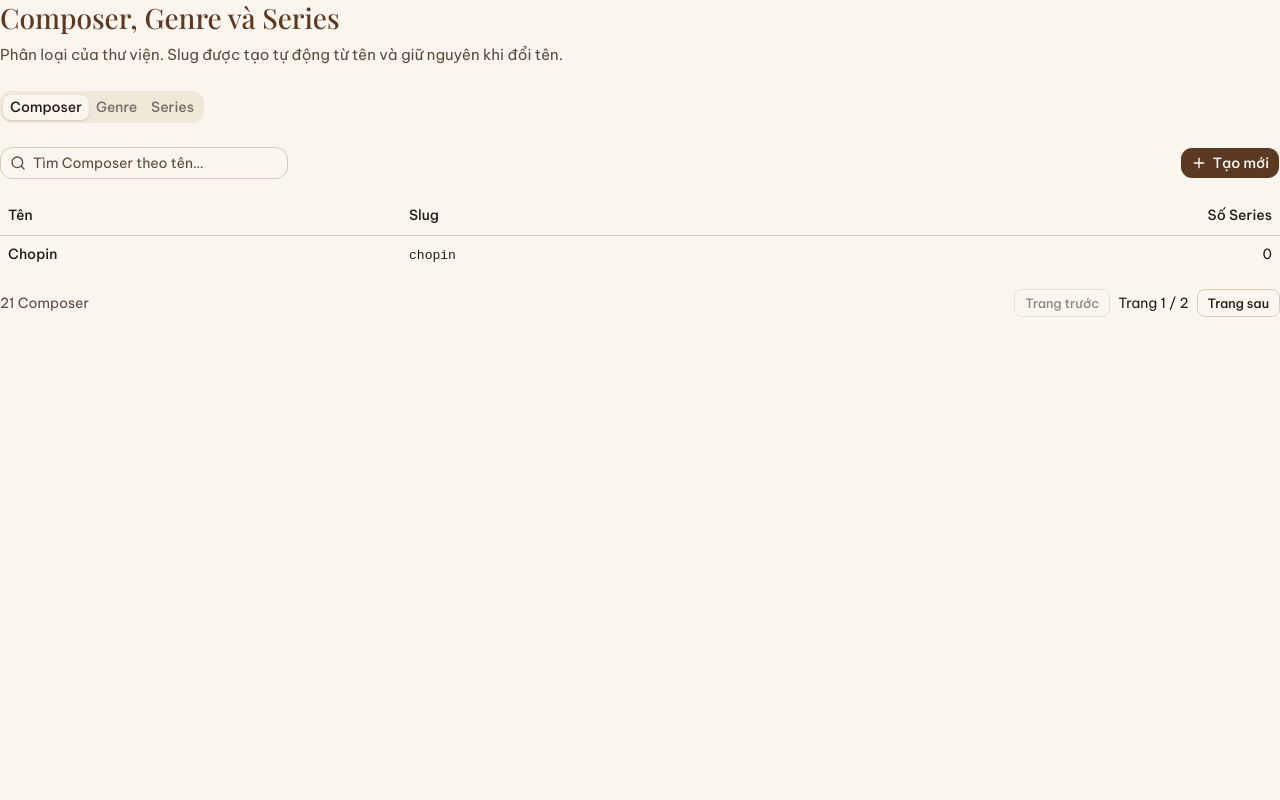
Test: Composer — xoá thành công, lùi trang, lỗi server › xoá 204 -> đóng dialog, tải lại; trang trống với page>1 -> GET trang thấp hơn
The width and height of the screenshot is (1280, 800).
Check: the text "Trang 1 / 2" is shown, box [1118,293,1188,313]
Click the button "Trang sau" at (1238, 303), box [1196,289,1279,317]
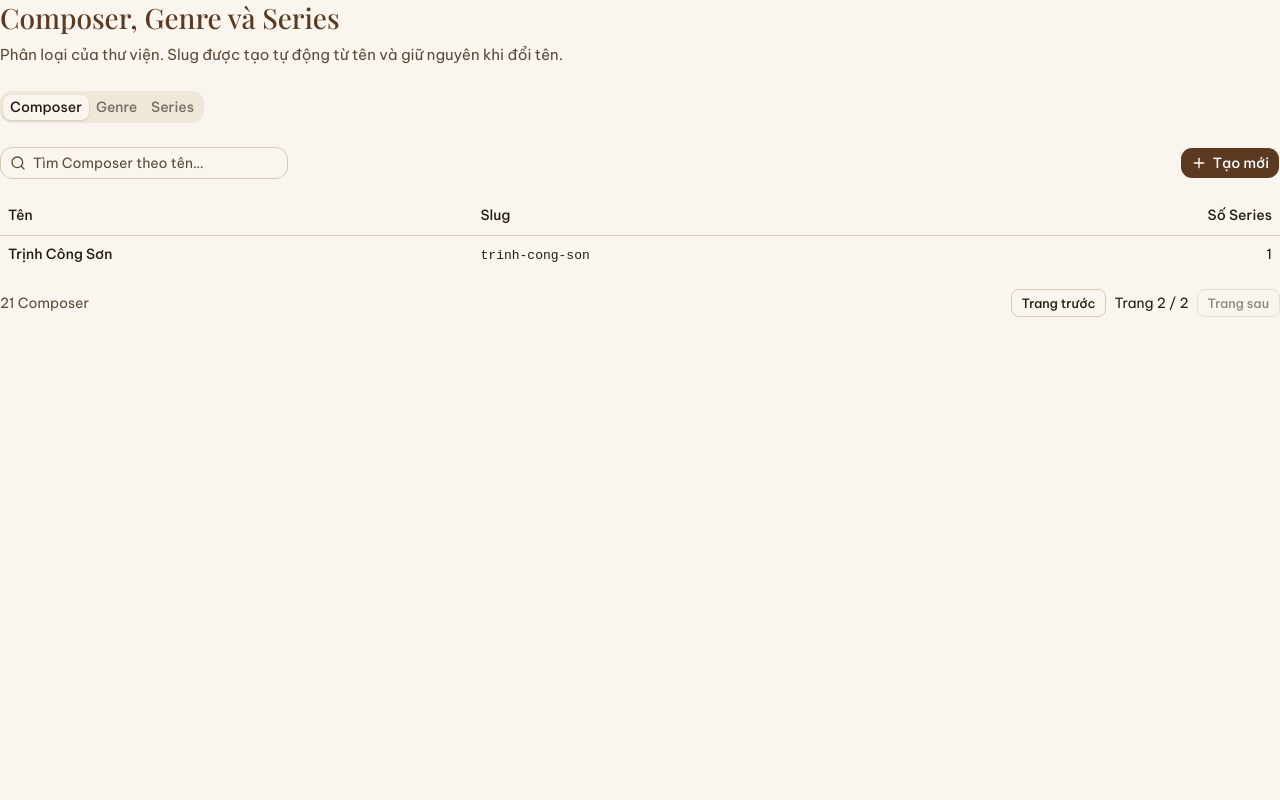
Click the row named "Sửa Composer Trịnh Công Sơn" at (60, 254), box [0,235,1279,273]
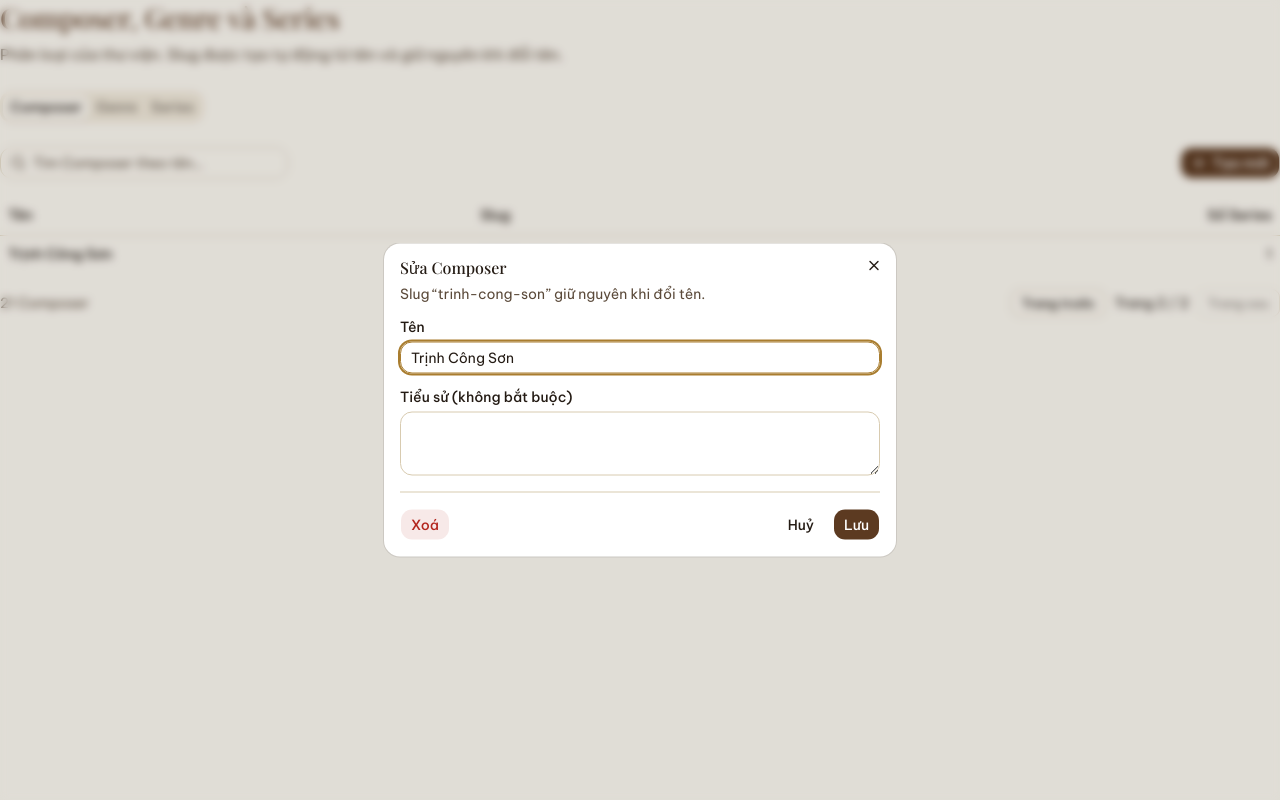
Click the button "Xoá" at (425, 524), box [400,508,450,540]
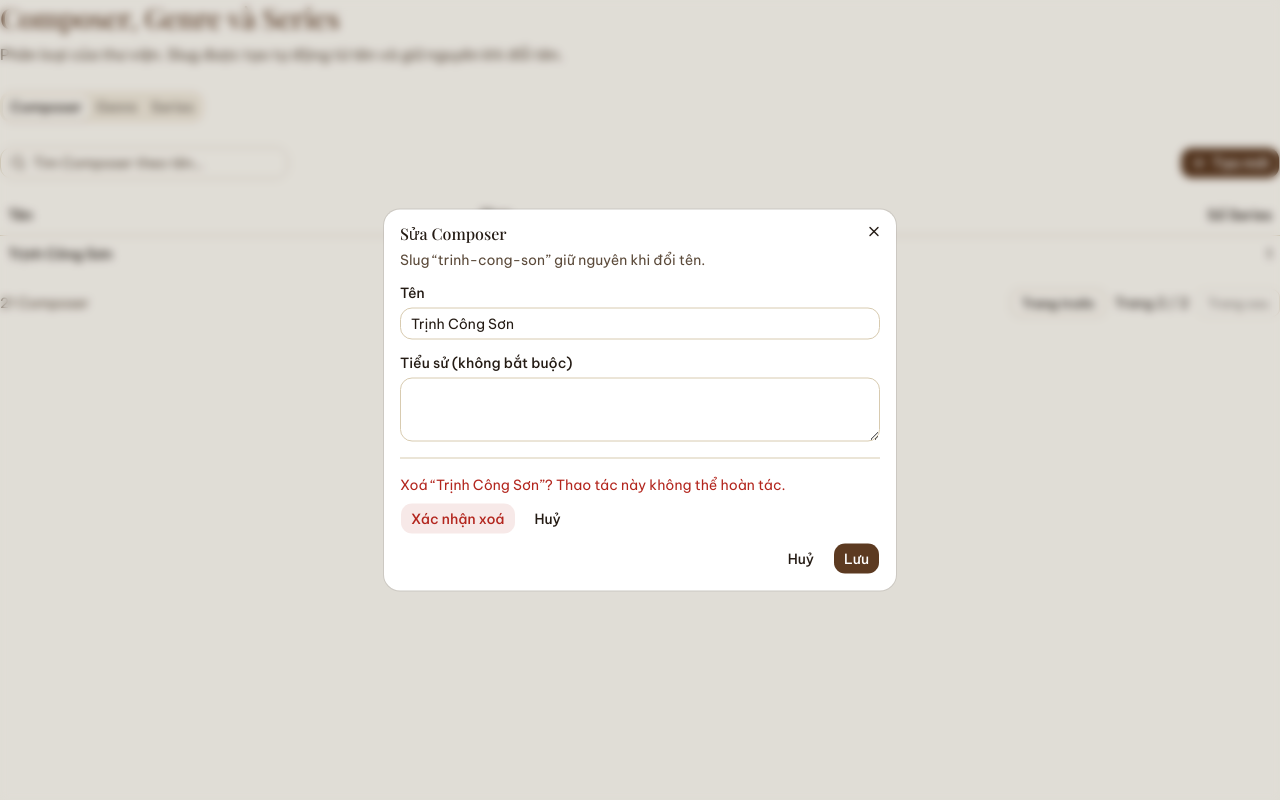
Click the button "Xác nhận xoá" at (458, 518), box [400,502,516,534]
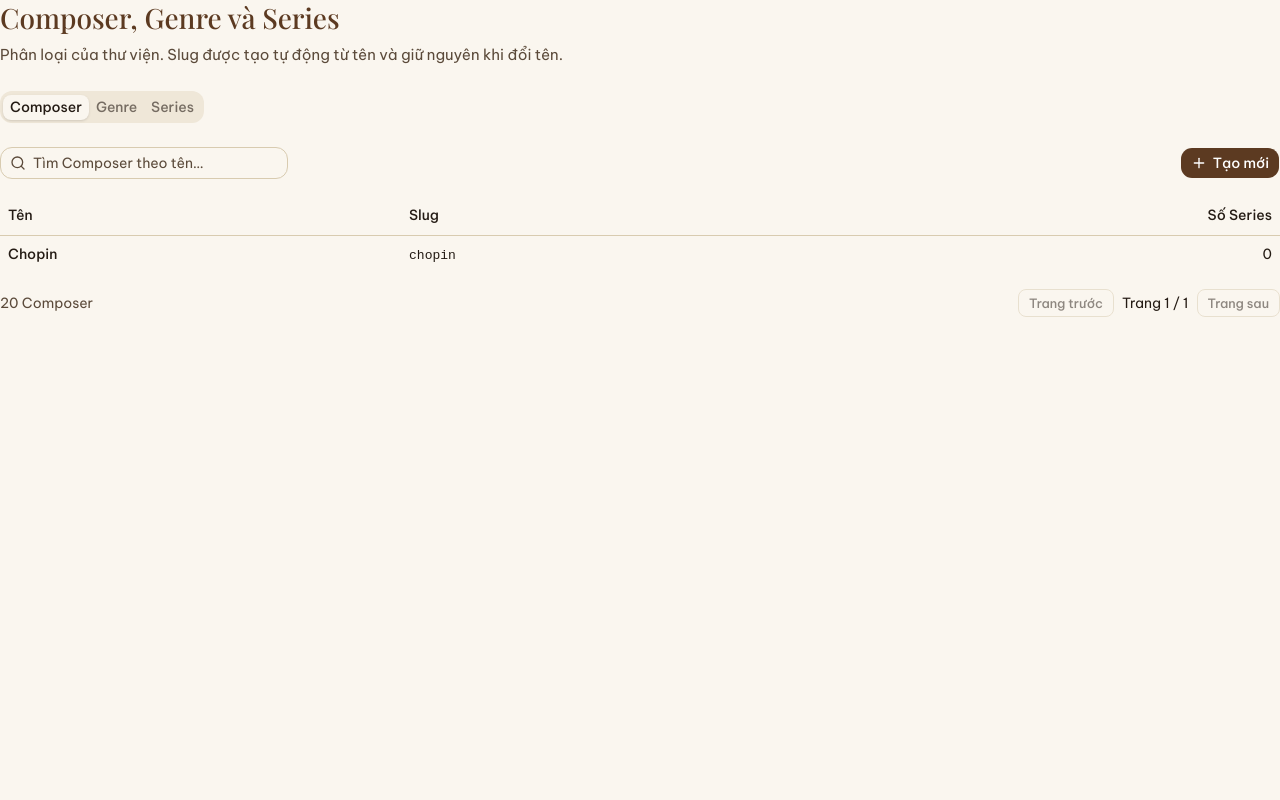
Check: the dialog is gone
Check: the text "Trang 1 / 1" is shown, box [1122,293,1188,313]
Check: the text "Chopin" is shown, box [0,235,401,273]
